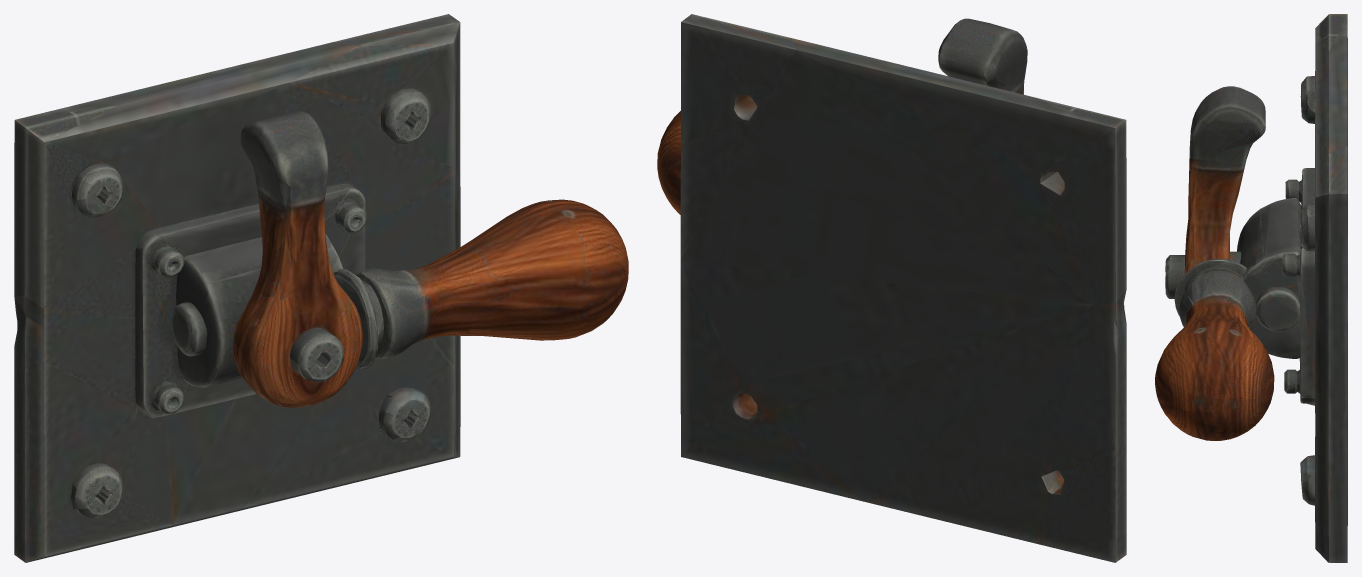
The model's file is lever.glb.
3 renders of one model, left to right at view 1: azimuth 30°, elevation 25°; view 2: azimuth 150°, elevation 25°; view 3: azimuth 270°, elevation 25°, orthographic. The views are drawn at different scales.
Bounding box in the file's own units: 1.9 × 1.51 × 0.711.
1 material, 1 textured.
